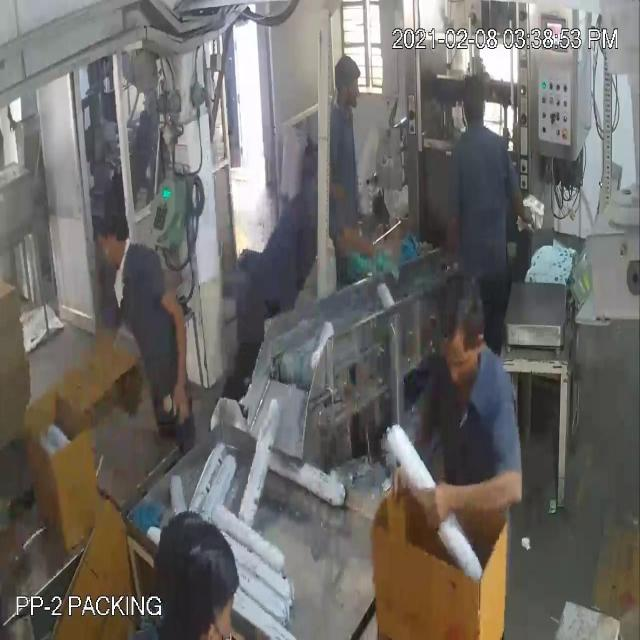No_Gloves: (48, 83, 472, 506)
